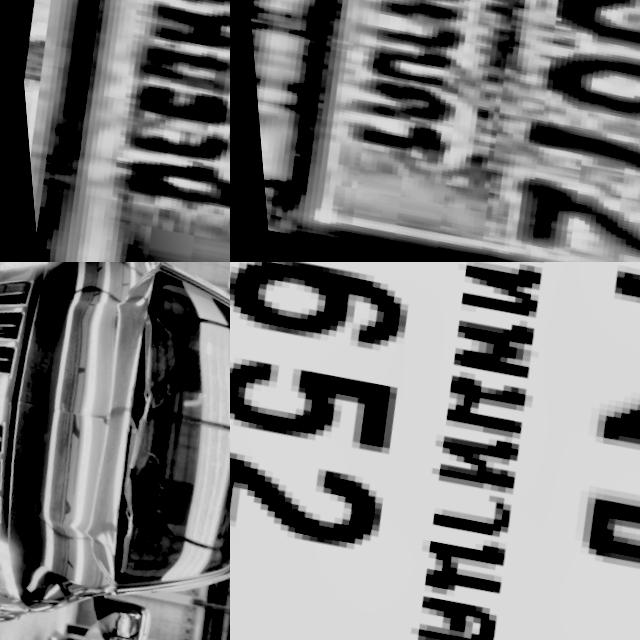license-plate: (230, 262, 640, 640), (230, 0, 640, 262), (0, 0, 230, 262)
